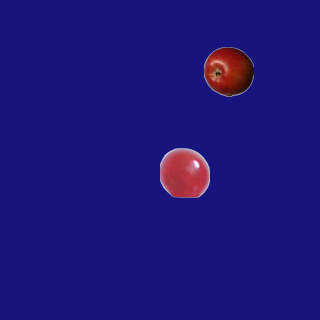Apple Braeburn: (203, 46, 253, 96)
Redcurrant: (159, 147, 209, 197)
